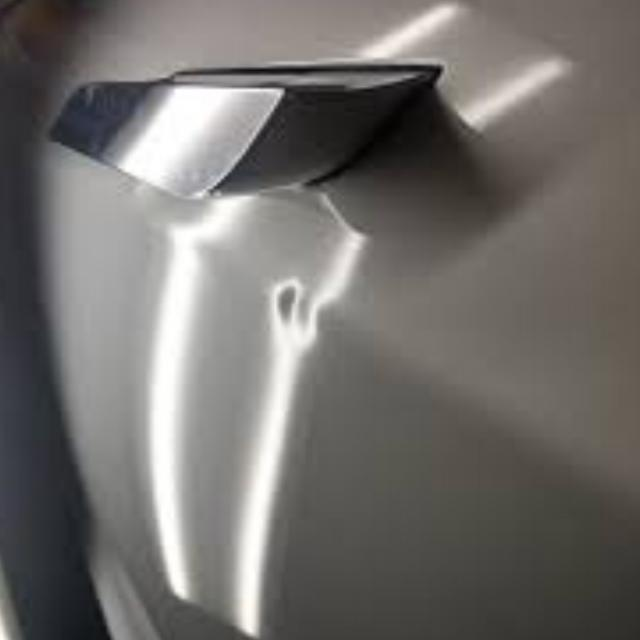dents: (252, 283, 372, 357)
